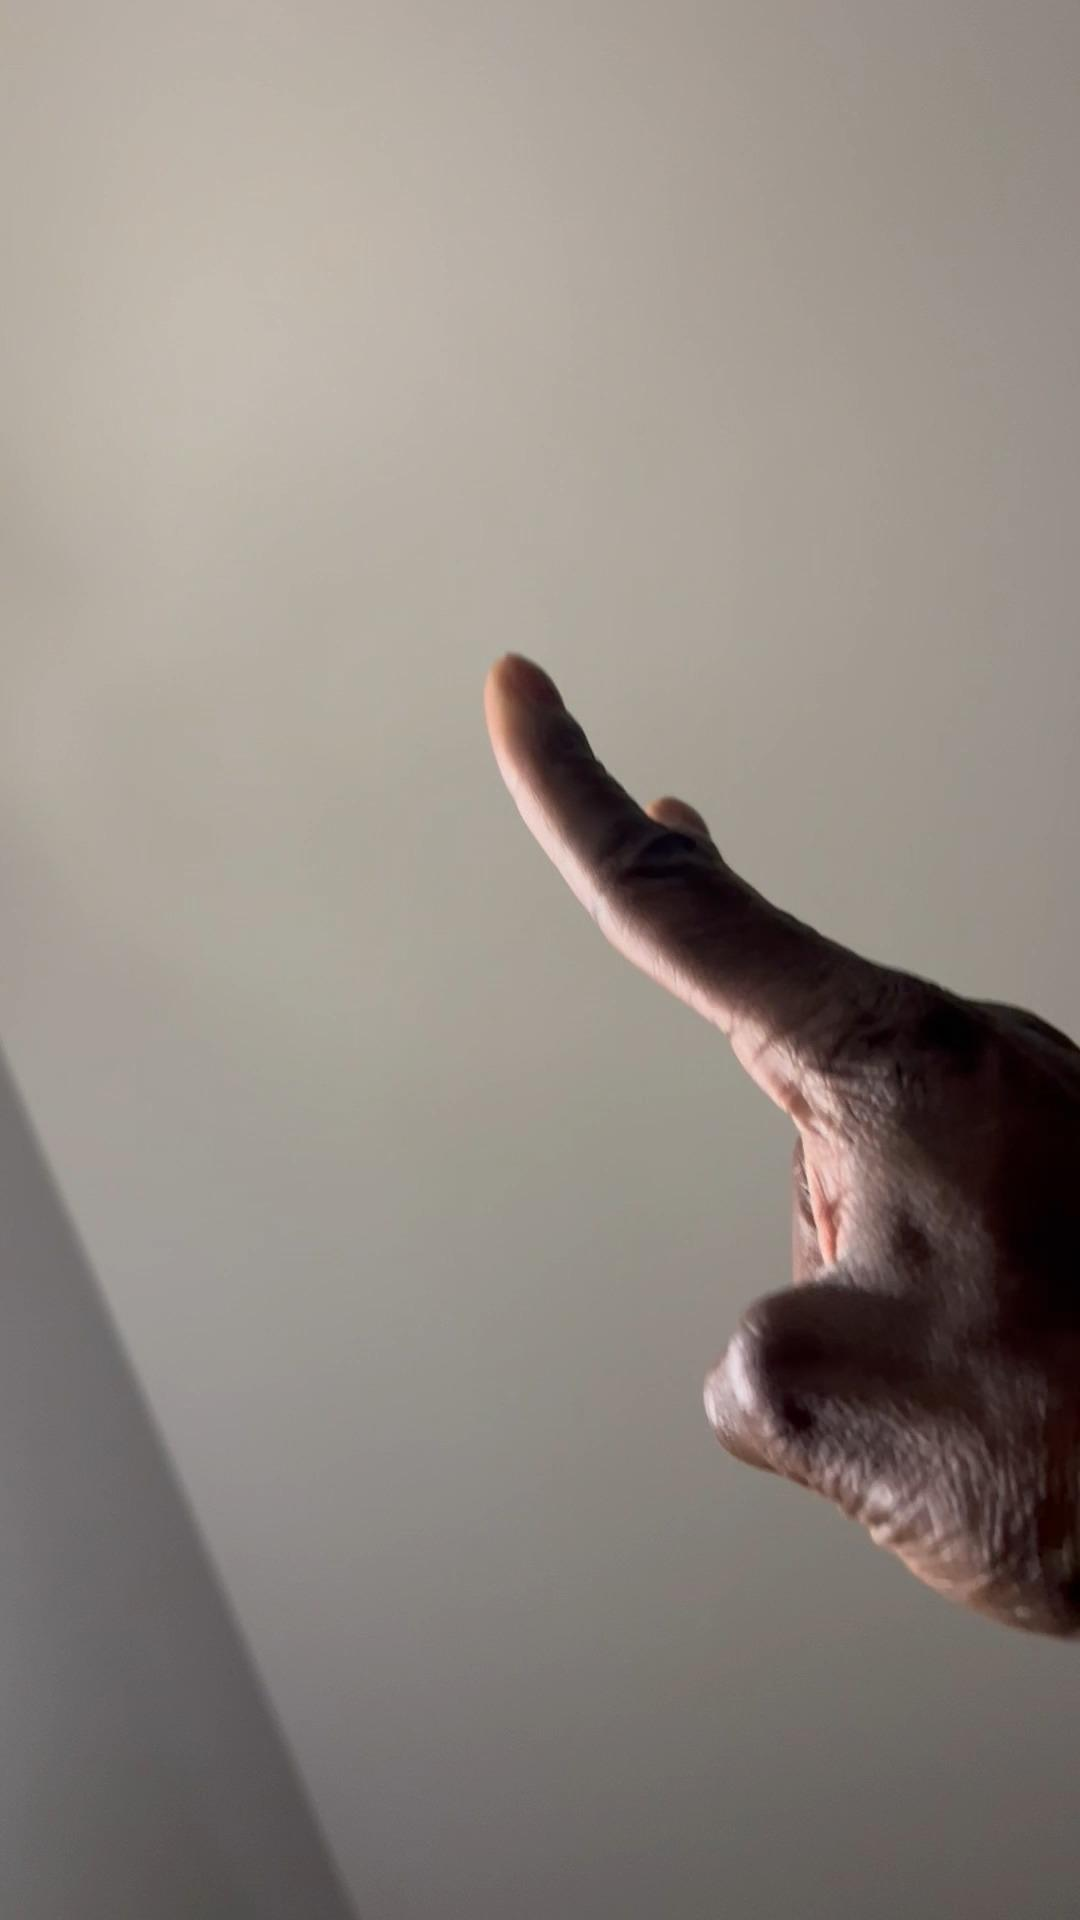Scissors: (487, 640, 1080, 1650)
